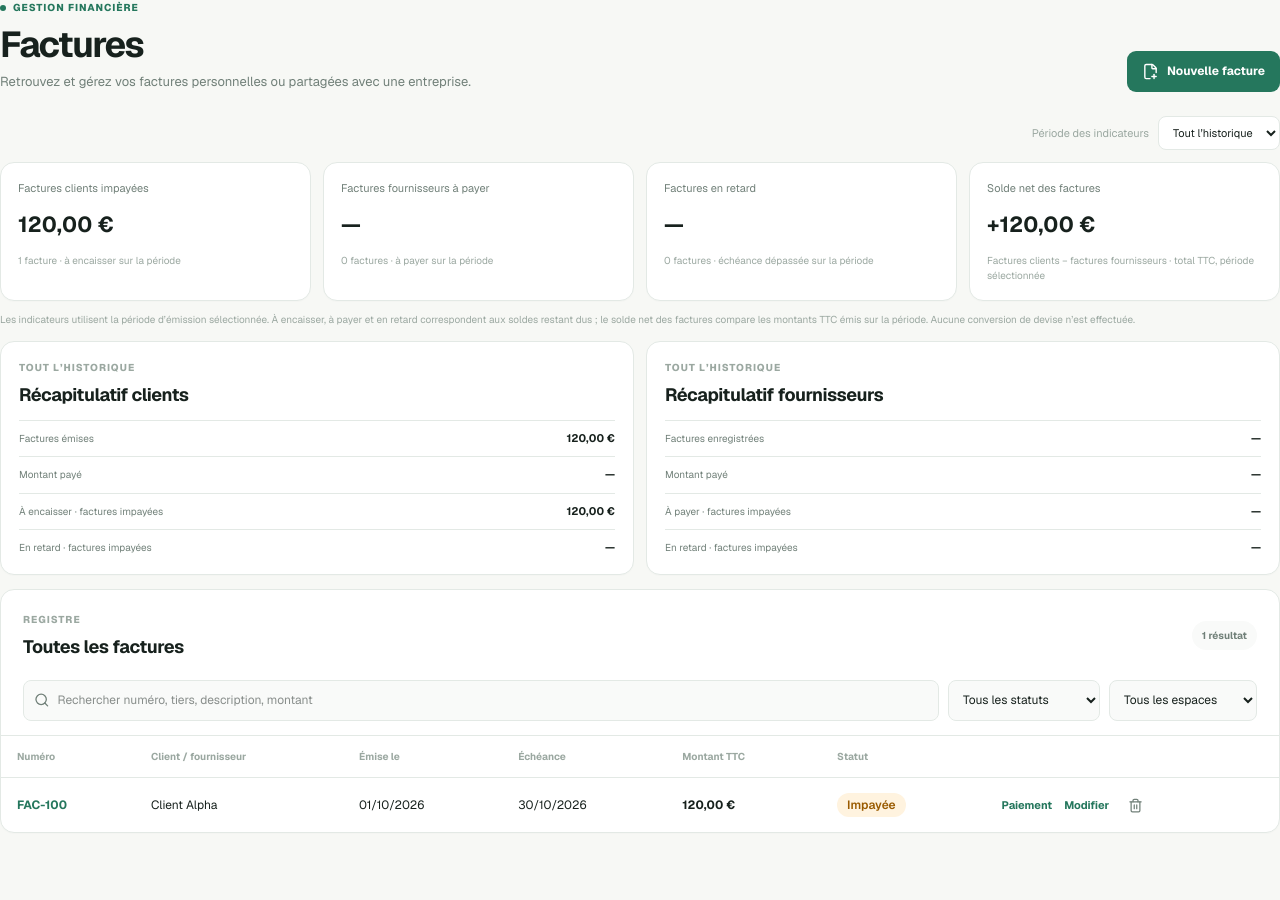
Test: invoice manager › searches and filters the loaded invoices
The image size is (1280, 900).
Check: the button "FAC-100" is shown, box [17, 796, 67, 814]
Type "inexistant" into the search field named "Rechercher une facture". click: [493, 700]
box: [58, 681, 928, 720]
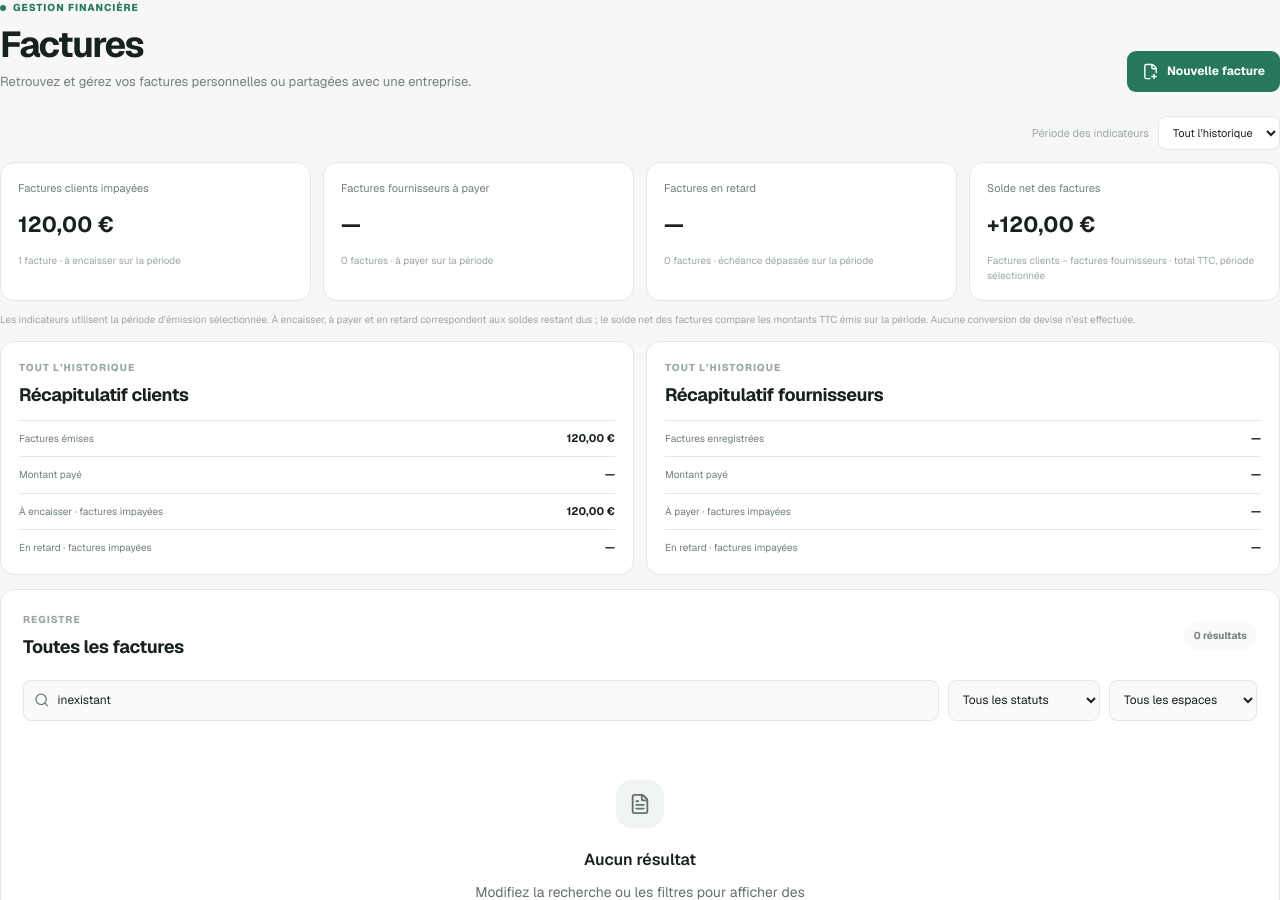
Check: the button "FAC-100" is gone
Check: the heading "Aucun résultat" is shown, box [584, 848, 696, 872]
